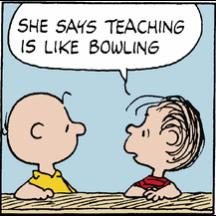charlie: (1, 88, 90, 202)
